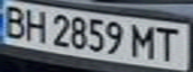2: (45, 11, 72, 48)
5: (84, 16, 109, 54)
8: (66, 14, 90, 52)
9: (103, 18, 127, 56)
B: (0, 2, 30, 39)
H: (21, 7, 51, 43)
M: (127, 21, 160, 61)
T: (151, 25, 187, 62)
